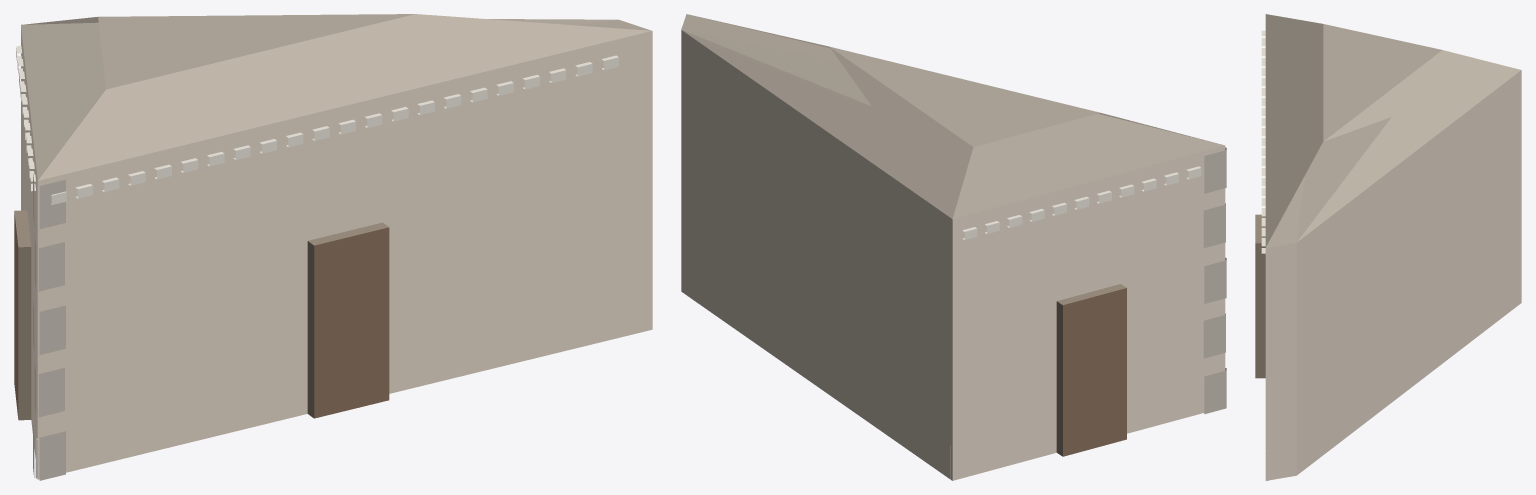
3 renders of one model, left to right at view 1: azimuth 30°, elevation 25°; view 2: azimuth 150°, elevation 25°; view 3: azimuth 270°, elevation 25°, orthographic. The views are drawn at different scales.
Parts seen in each view (by area): view 1: N-54; view 2: N-54; view 3: N-54.
Boxes of the visible parts, box(x1,y1,x2,y2) form: N-54: box(14, 14, 652, 480); N-54: box(681, 14, 1226, 480); N-54: box(1255, 14, 1521, 480).
Size of the model in its own units: 8.22 by 4.29 by 3.93.
